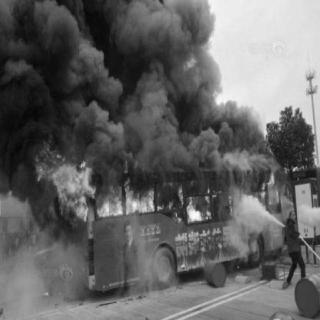Fire: (38, 146, 100, 228), (257, 124, 279, 158)
Smoke: (1, 0, 259, 164)
other: (96, 220, 150, 276), (281, 218, 305, 256), (257, 255, 284, 287)
